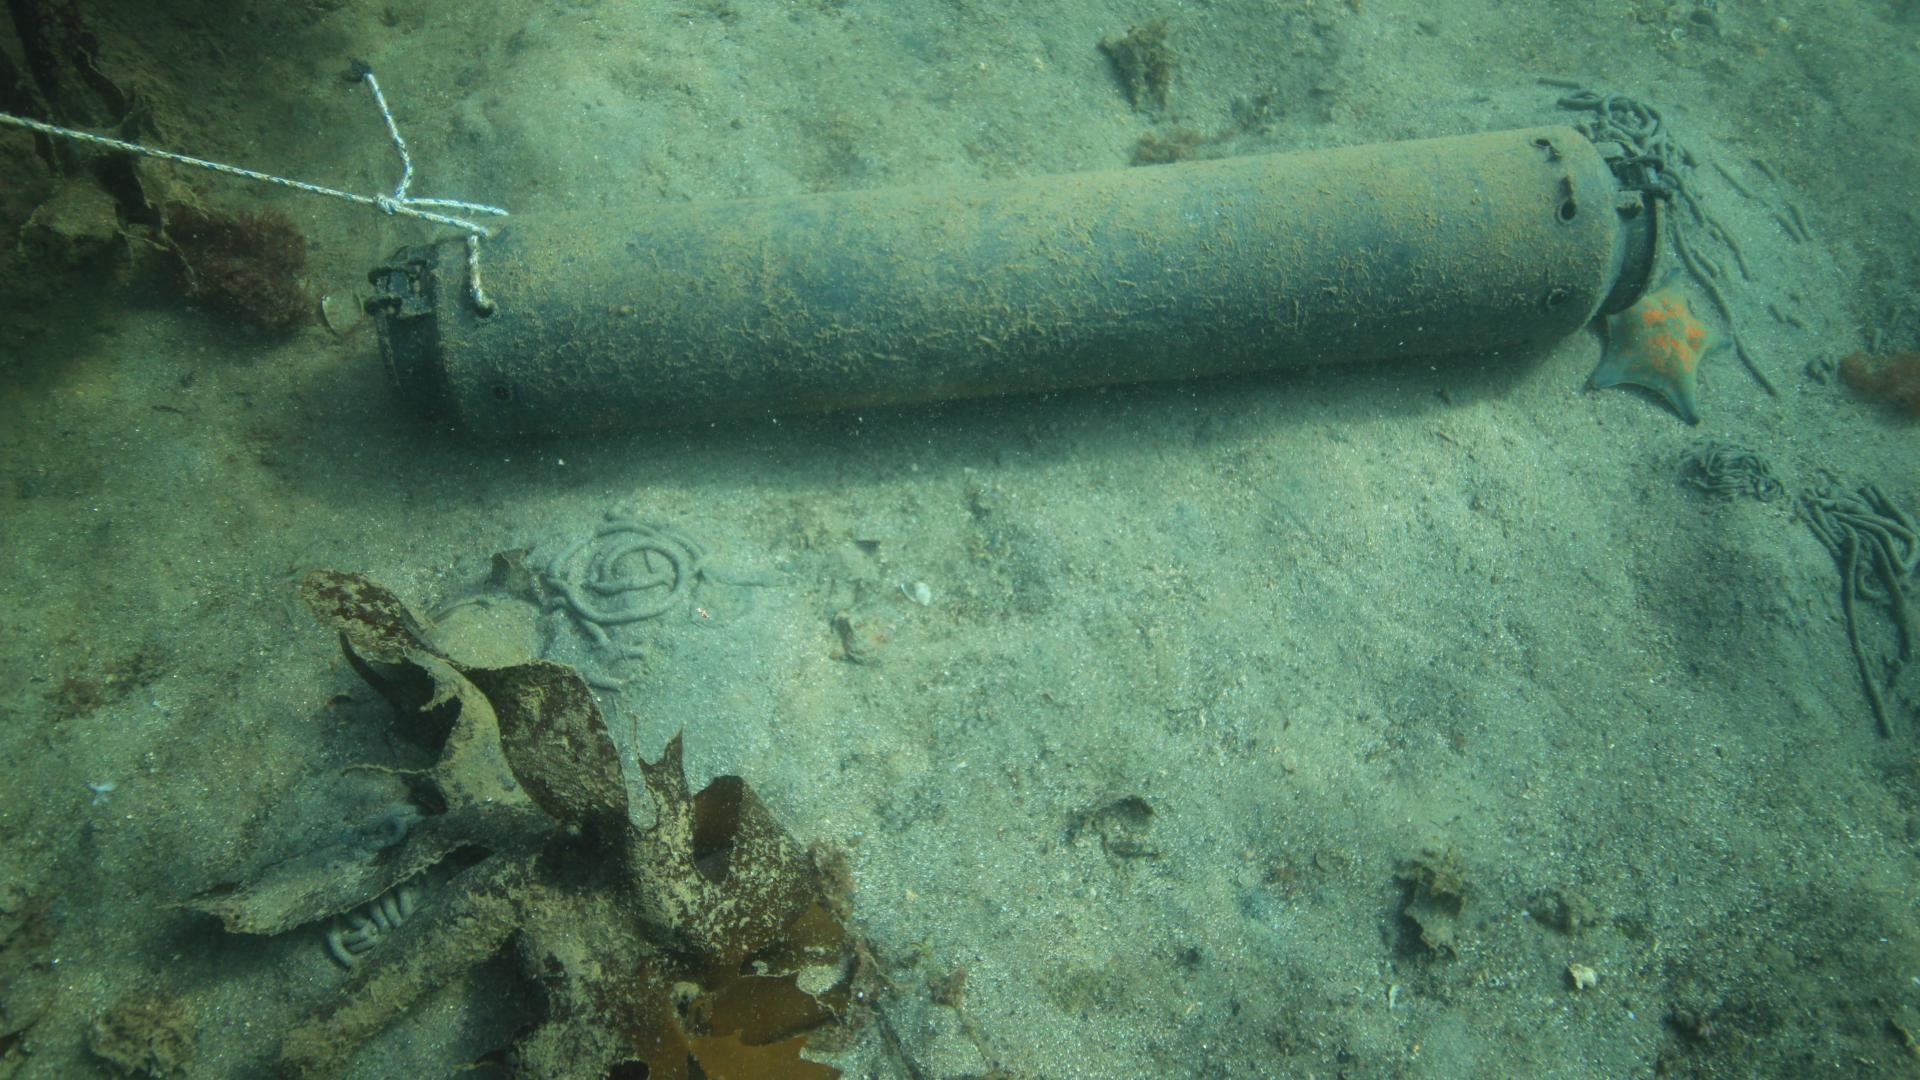bundle of ropes: (0, 67, 506, 239)
eel fish trap: (375, 119, 1669, 440)
